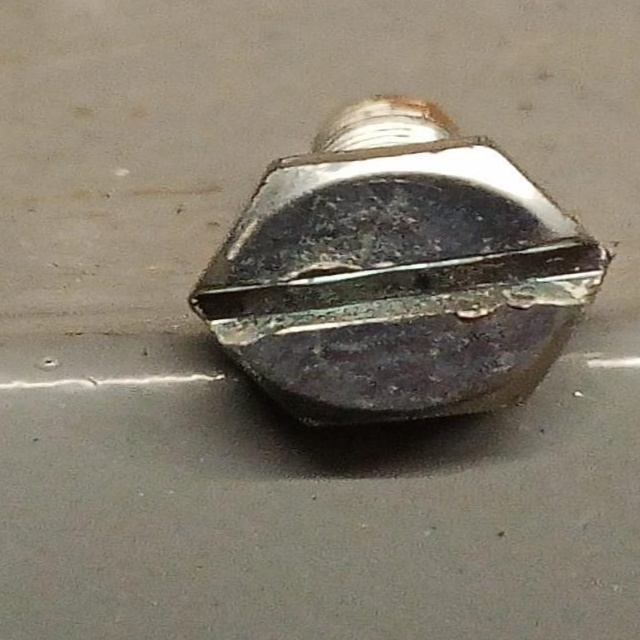duz: (183, 131, 619, 437)
